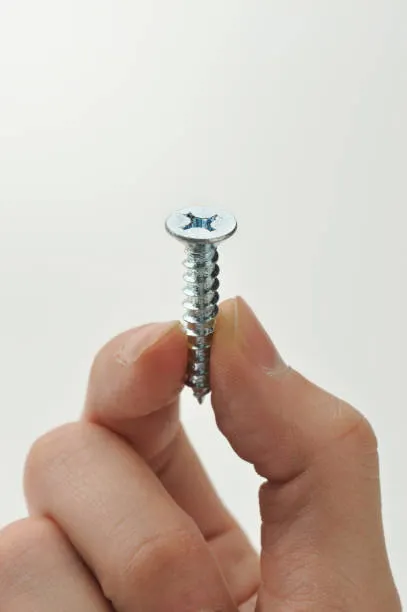tornillo: (151, 230, 216, 382)
